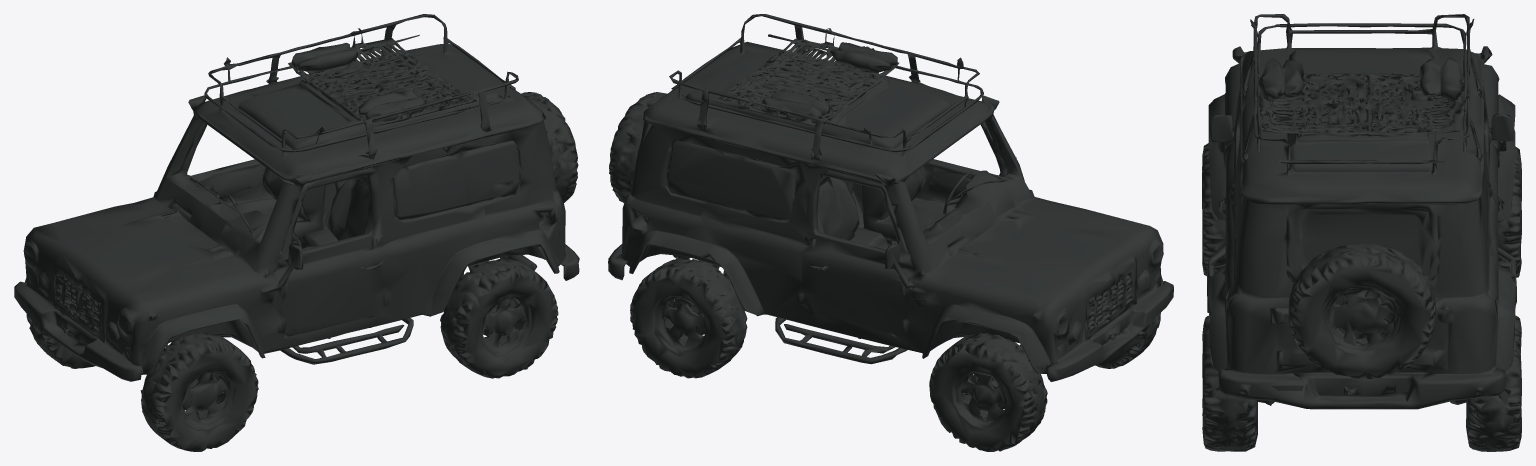
The model's file is car_suv_light_q0.glb.
3 renders of one model, left to right at view 1: azimuth 30°, elevation 25°; view 2: azimuth 150°, elevation 25°; view 3: azimuth 270°, elevation 25°, orthographic. The views are drawn at different scales.
Size of the model in its own units: 3.29 by 1.8 by 1.58.
Materials: 1 (1 with a texture image).
